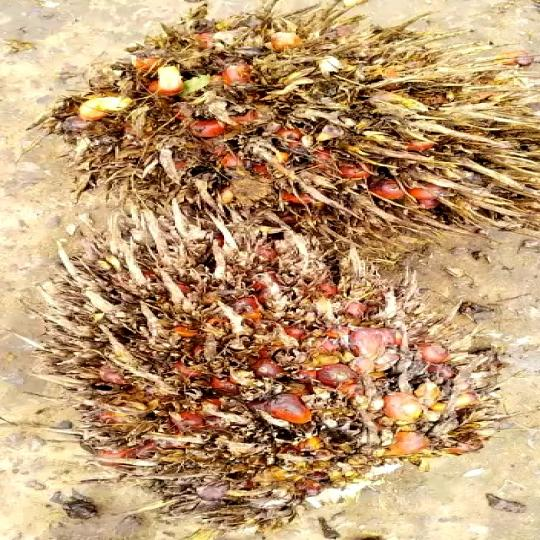terlalu masak: (9, 224, 469, 509), (42, 4, 535, 236)
